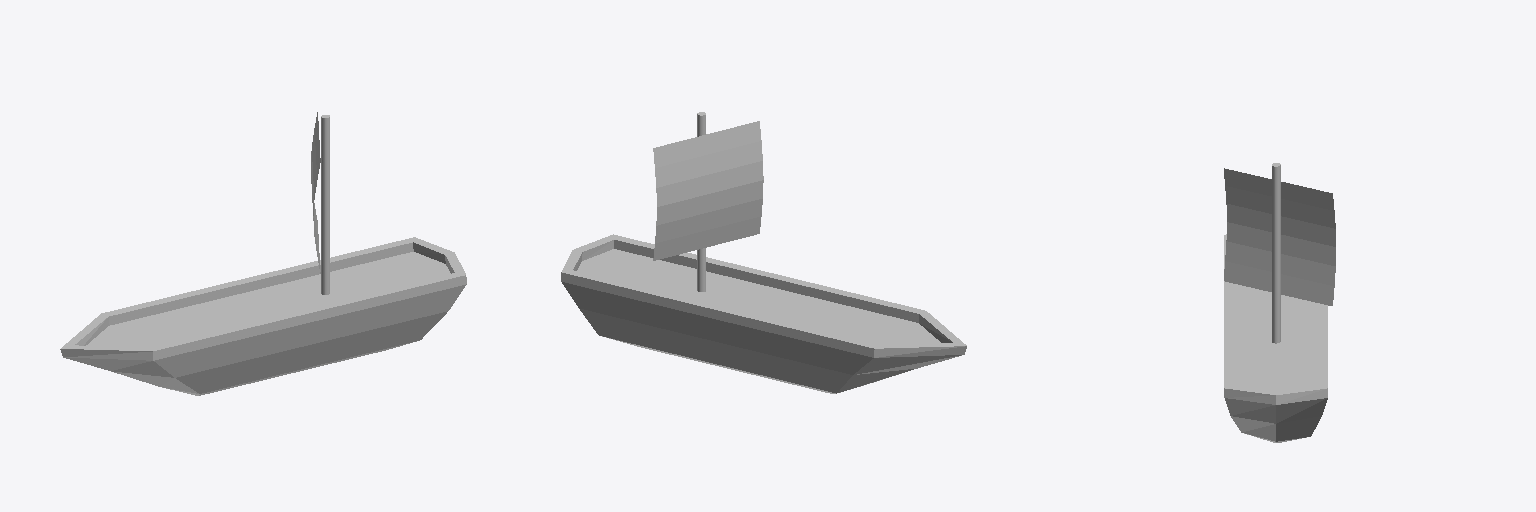
Rendered from ship.obj.
The picture shows the model from 3 angles: view 1: azimuth 30°, elevation 25°; view 2: azimuth 150°, elevation 25°; view 3: azimuth 270°, elevation 25°; orthographic projection.
Visible parts, largest first — view 1: Cube, Cylinder, Plane; view 2: Cube, Plane, Cylinder; view 3: Cube, Plane, Cylinder.
Boxes of the visible parts, x1,y1,x2,y2 form: Cube: [60, 237, 466, 395]; Cylinder: [321, 115, 329, 294]; Plane: [311, 112, 320, 273]; Cube: [561, 234, 966, 393]; Plane: [653, 121, 763, 260]; Cylinder: [697, 112, 705, 291]; Cube: [1224, 234, 1327, 442]; Plane: [1224, 168, 1335, 305]; Cylinder: [1272, 163, 1280, 343].
Size of the model in its own units: 32.35 by 19.45 by 8.01.